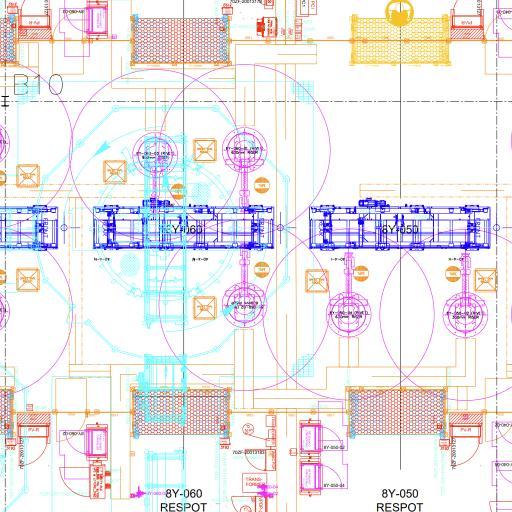robot: (324, 248, 374, 338), (221, 125, 270, 215), (222, 241, 269, 333), (442, 252, 490, 338), (131, 132, 179, 214)
